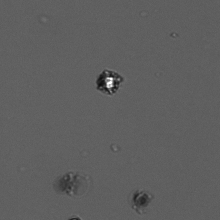Dead Cell: (56, 170, 81, 197), (131, 189, 154, 211)
Living Cell: (94, 68, 123, 96)
